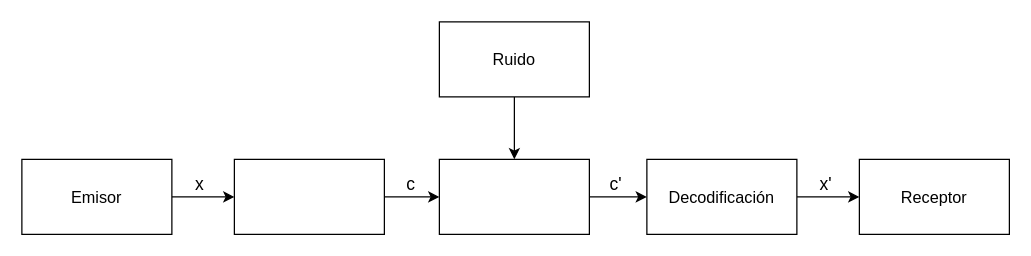
Image size: 1031x256. Some labels were removed from this diagram. The centre of each missing label's shape, as x and y in pixels:
Canal: pixel 513 196
Codificación: pixel 308 196
